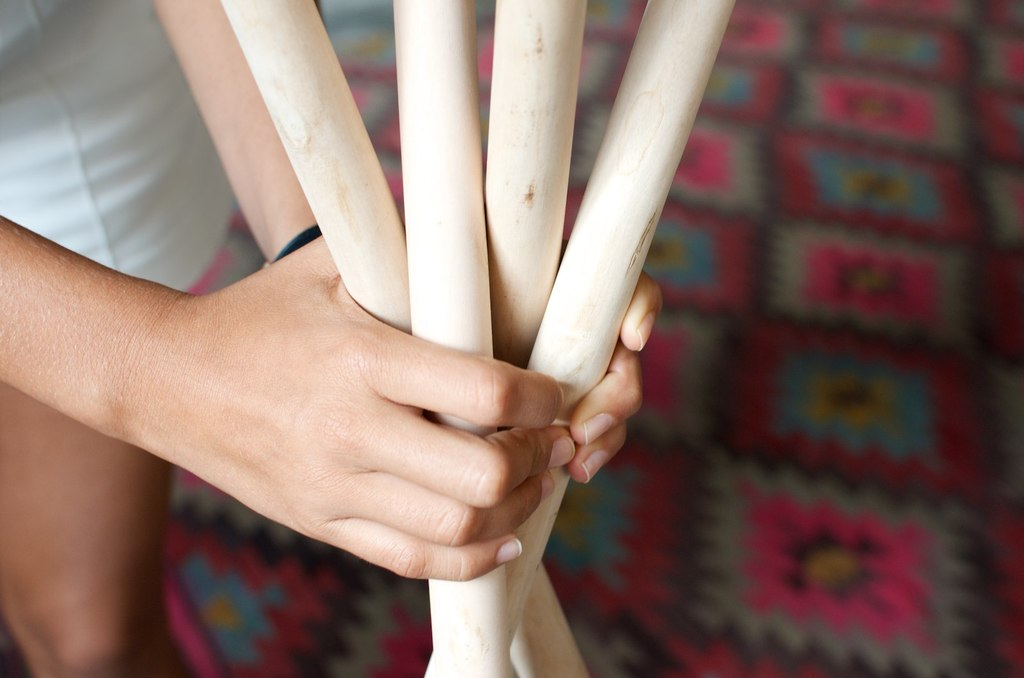Human_hand: (126, 235, 576, 581), (569, 269, 666, 485)
